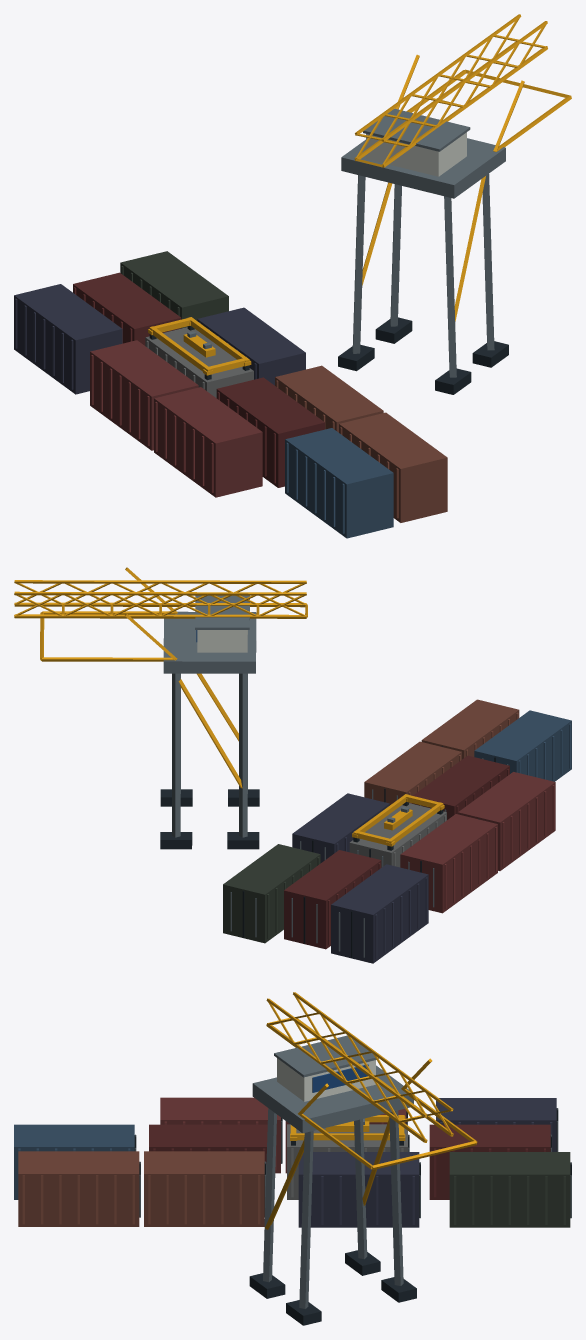
The model's file is SeaportSystem-02-ShipToShoreGantryCrane-01-20Footer-1-01.glb.
3 renders of one model, top to bottom at view 1: azimuth 30°, elevation 25°; view 2: azimuth 150°, elevation 25°; view 3: azimuth 270°, elevation 25°, orthographic. The views are drawn at different scales.
Visible parts, largest first — view 1: SeaportSystem-02-ShipToShoreGantryCrane-01-20Footer-1-01; view 2: SeaportSystem-02-ShipToShoreGantryCrane-01-20Footer-1-01; view 3: SeaportSystem-02-ShipToShoreGantryCrane-01-20Footer-1-01.
Boxes of the visible parts, x1=… form: SeaportSystem-02-ShipToShoreGantryCrane-01-20Footer-1-01: x1=14, y1=14, x2=571, y2=538; SeaportSystem-02-ShipToShoreGantryCrane-01-20Footer-1-01: x1=14, y1=567, x2=571, y2=963; SeaportSystem-02-ShipToShoreGantryCrane-01-20Footer-1-01: x1=14, y1=992, x2=571, y2=1325.
Bounding box in the file's own units: 57.89 × 31.18 × 60.97.
